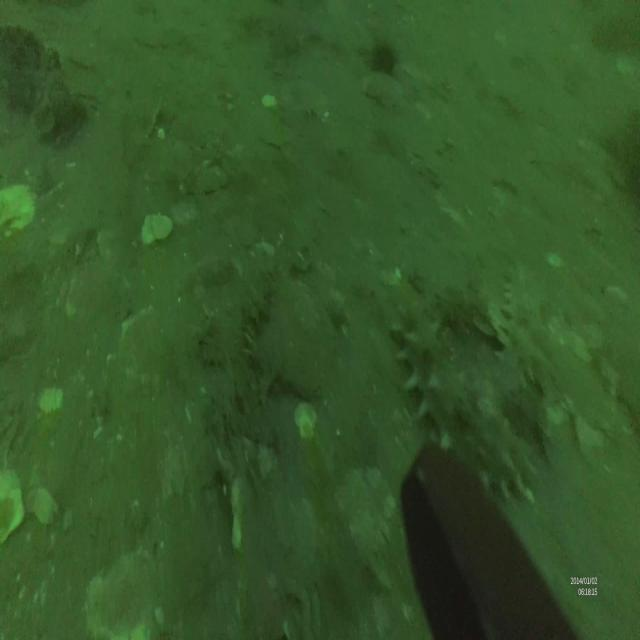echinus: (372, 41, 398, 79)
holothurian: (391, 300, 538, 505)
scallop: (292, 401, 320, 441)
starfish: (25, 485, 57, 530)
